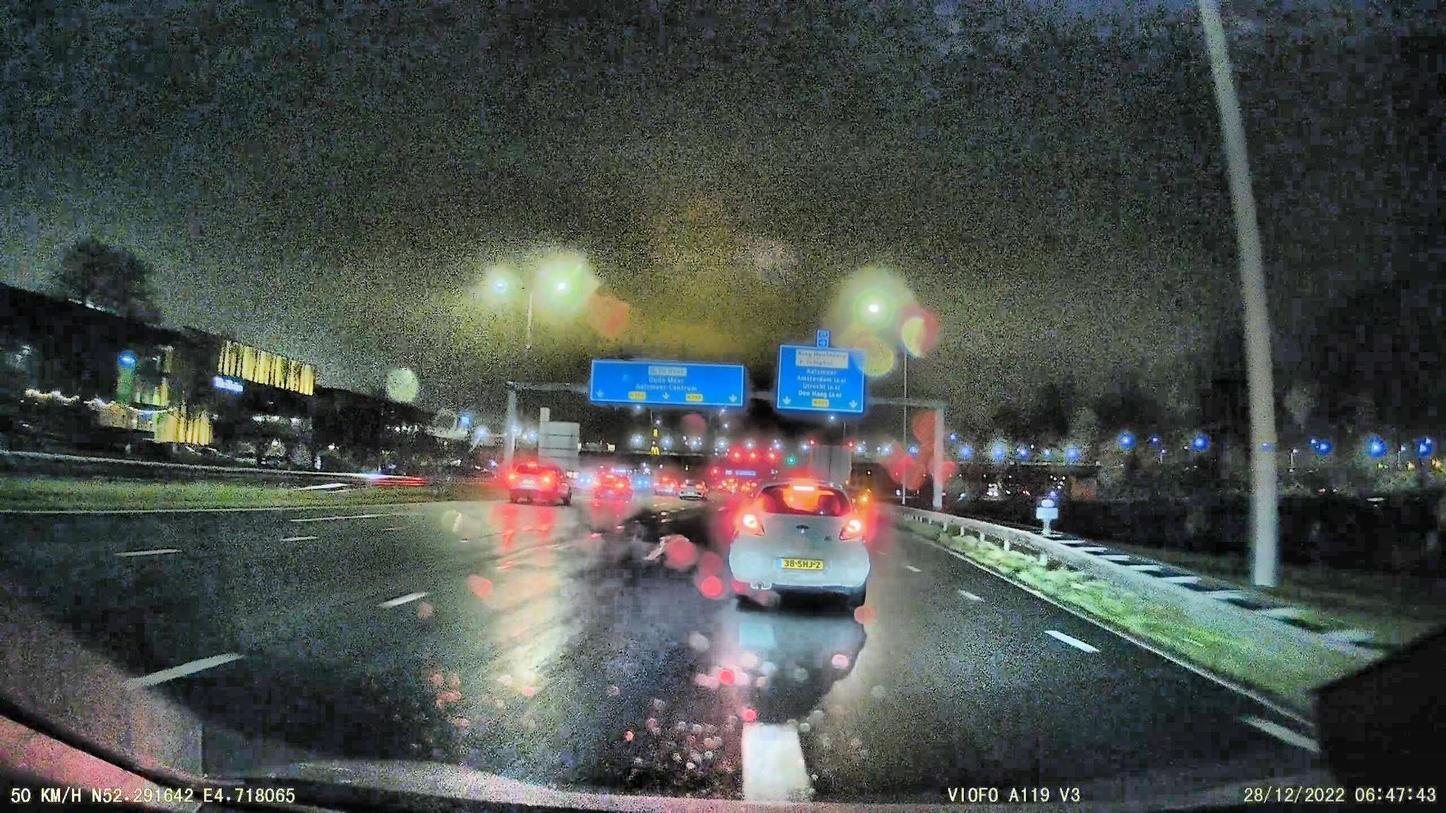Roads: (0, 501, 1329, 813)
